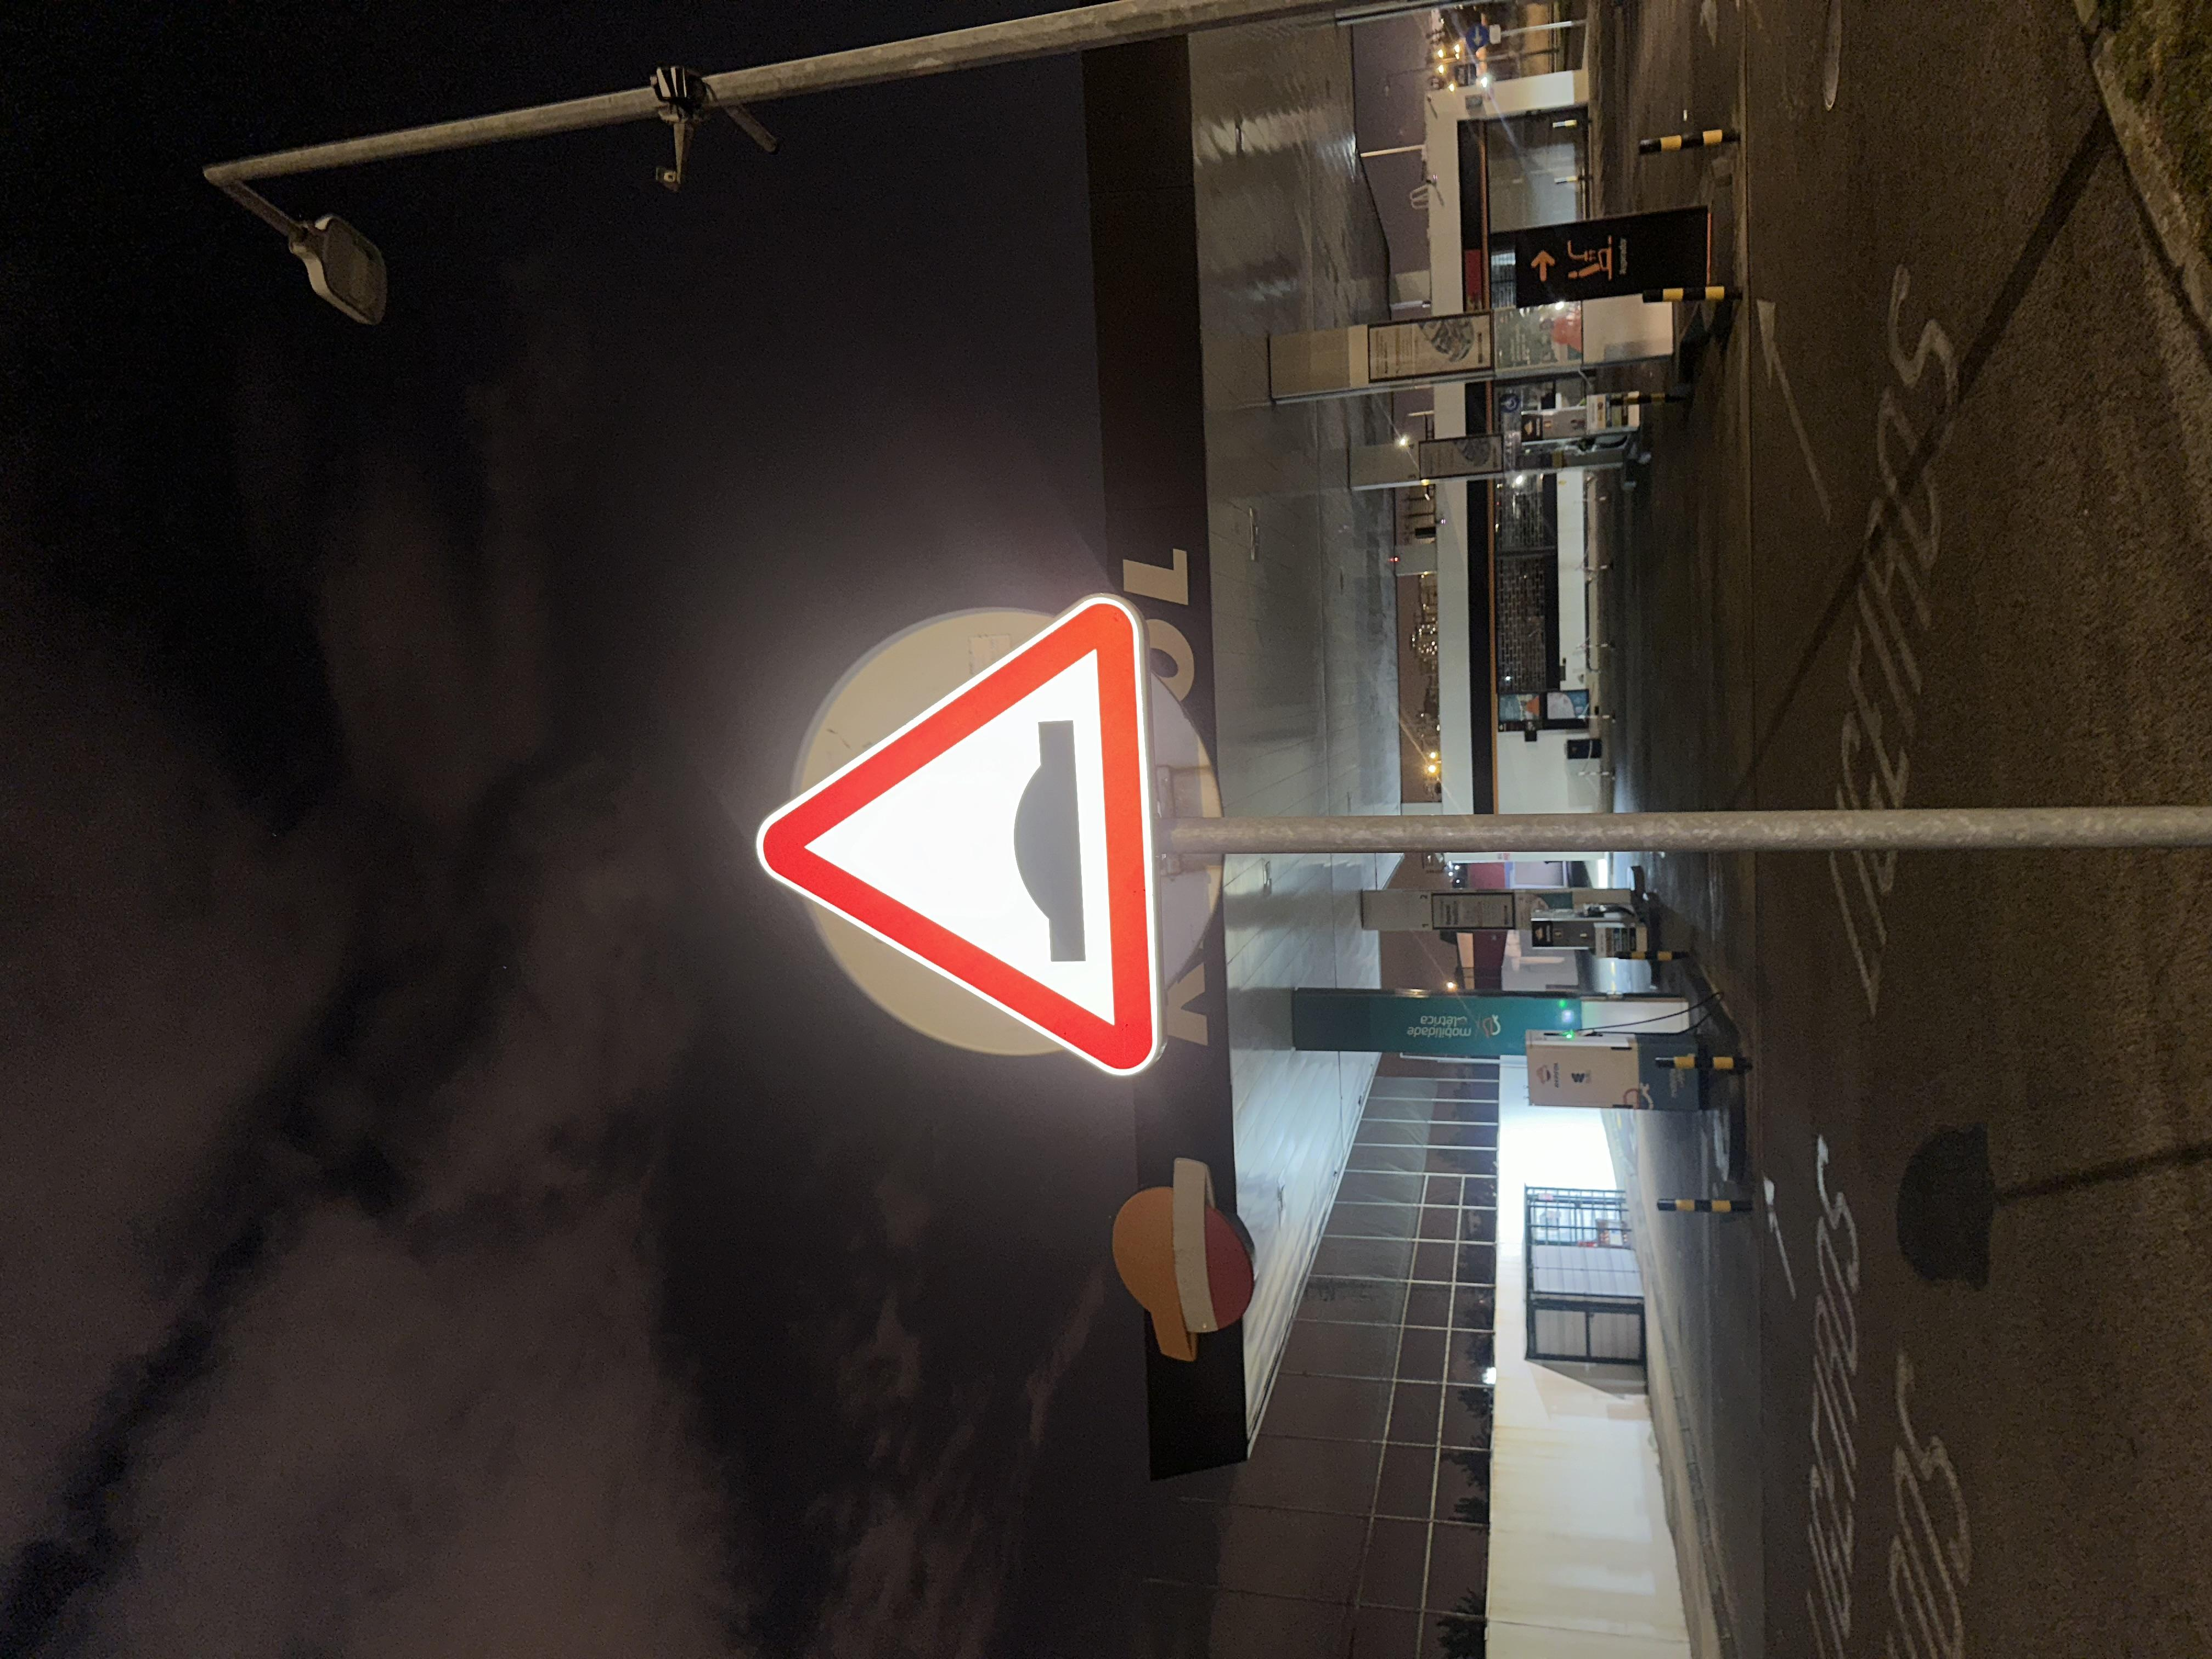lomba: (754, 547, 1470, 904)
